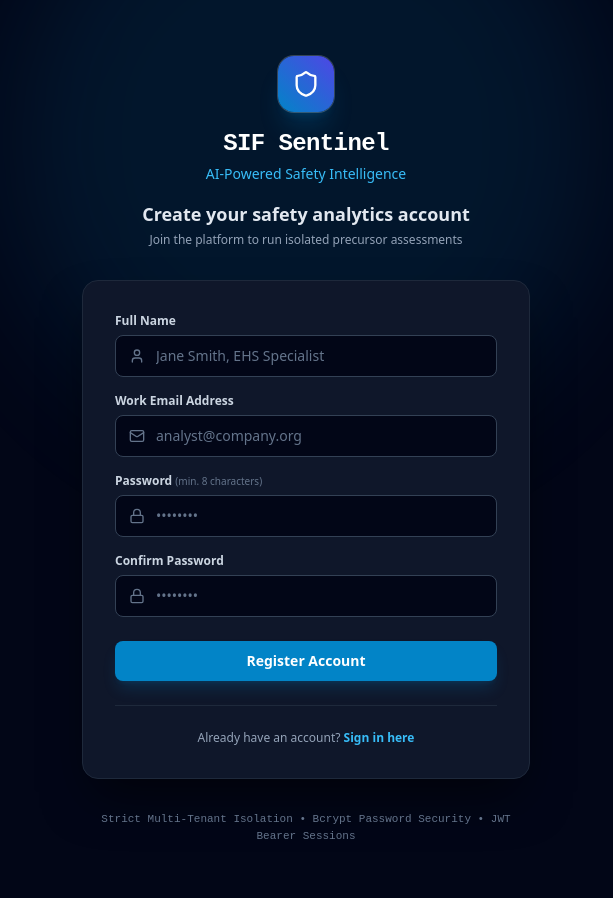
it: Register Component › validates password length on client side
The width and height of the screenshot is (613, 898).
In the field labelled "Full Name": (306, 356) x1=115 y1=335 x2=497 y2=377, type "Jane Doe"
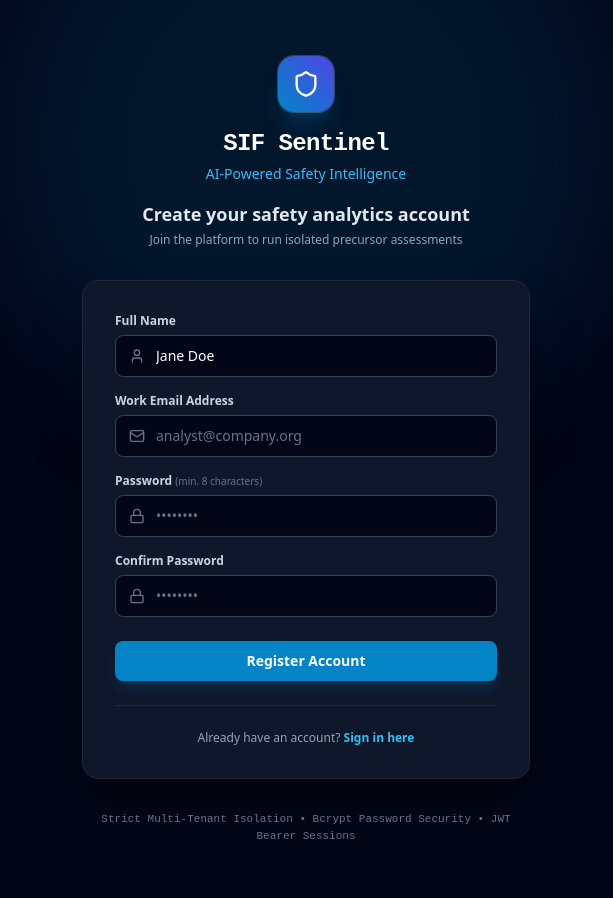
In the field labelled "Work Email Address": (306, 436) x1=115 y1=415 x2=497 y2=457, type "jane@company.org"
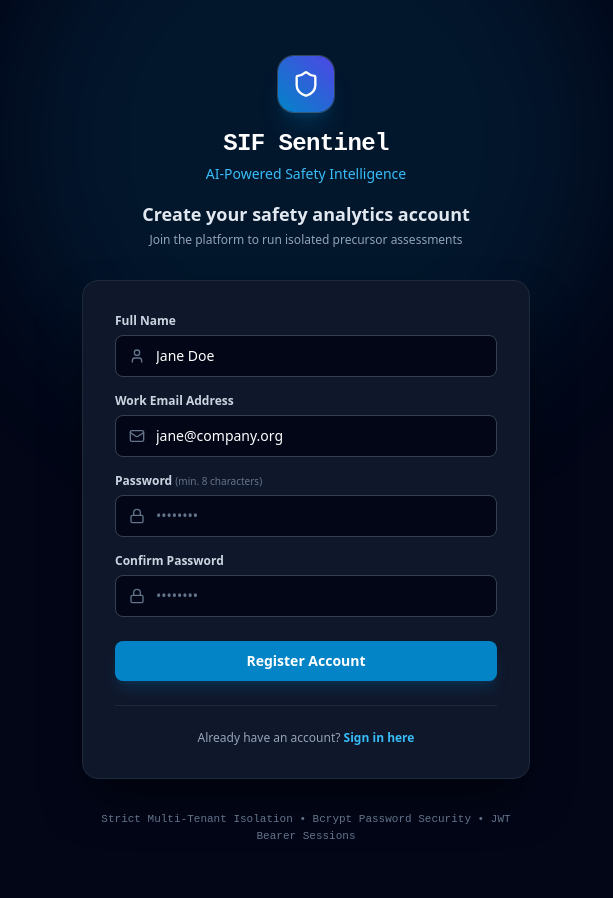
In the password field labelled "Password (min. 8 characters)": (306, 516) x1=115 y1=495 x2=497 y2=537, type "short"
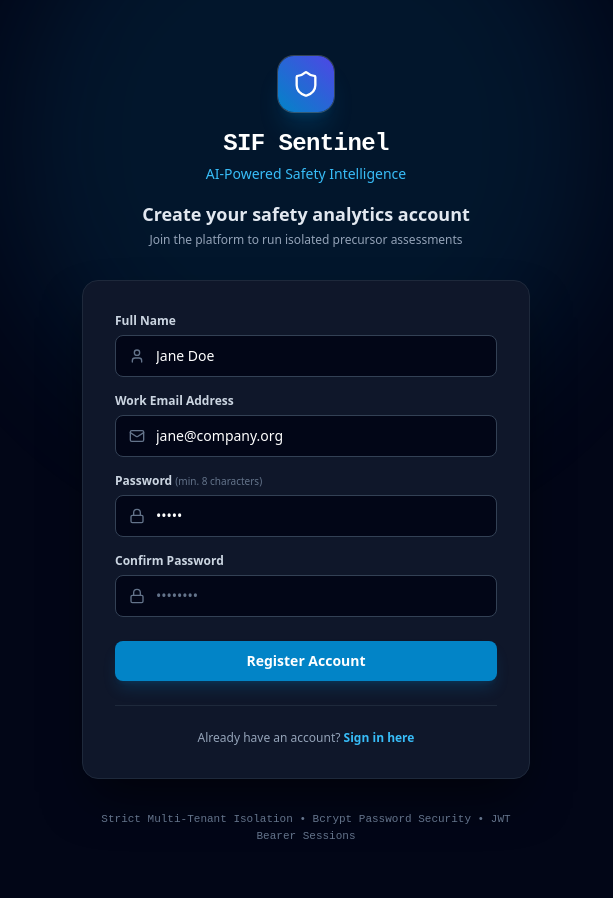
In the password field labelled "Confirm Password": (306, 596) x1=115 y1=575 x2=497 y2=617, type "short"
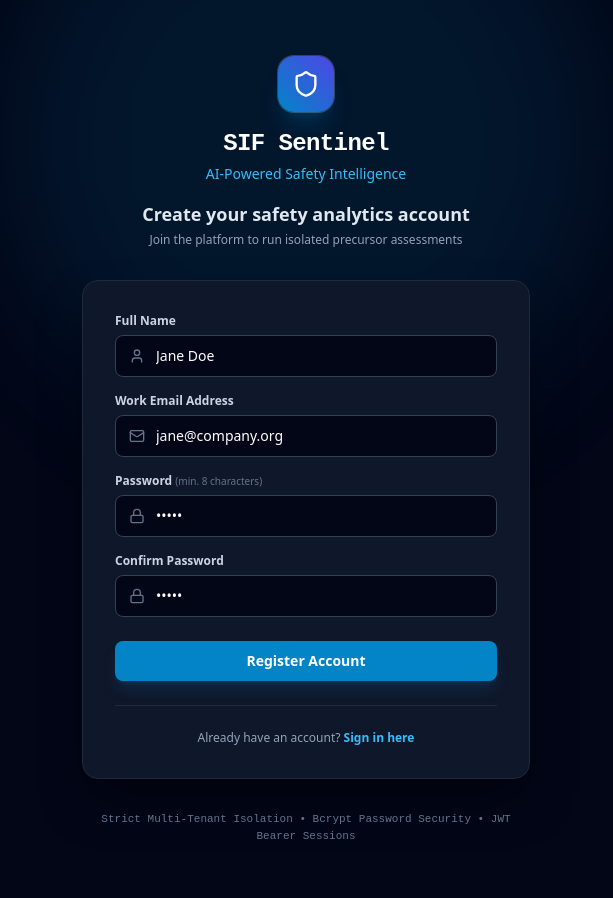
Click the button "Register Account": click(306, 661) x1=115 y1=641 x2=497 y2=681
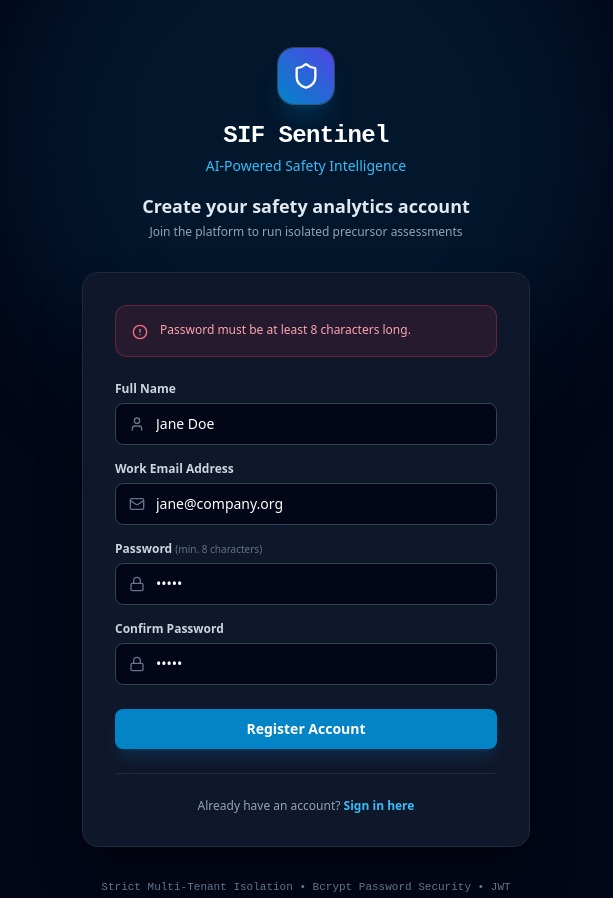
Now the message shows "at least 8 characters", box x1=160 y1=321 x2=411 y2=338
